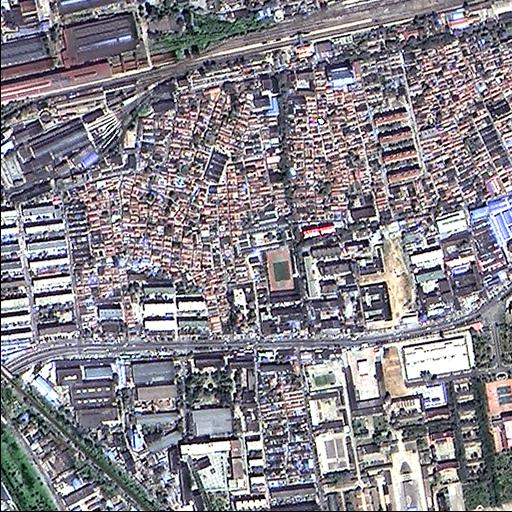school: (235, 220, 297, 294)
